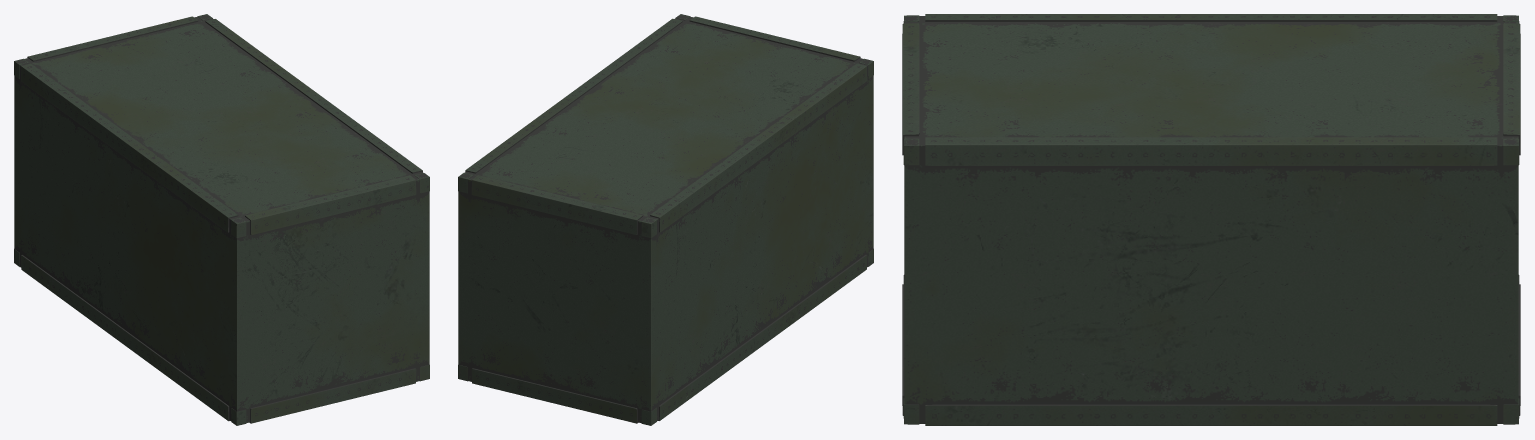
The model's file is metal_box.gltf.
3 views of the same model, side by side, from view 1: azimuth 30°, elevation 25°; view 2: azimuth 150°, elevation 25°; view 3: azimuth 270°, elevation 25° (orthographic). The views are drawn at different scales.
Parts seen in each view (by area): view 1: metal_box; view 2: metal_box; view 3: metal_box.
Part boxes in pixels (box(x1,y1,x2,y2)): metal_box: box(14, 14, 429, 425); metal_box: box(458, 14, 873, 425); metal_box: box(902, 14, 1520, 425).
Size of the model in its own units: 1.01 by 1.01 by 2.01.
Materials: 1 (1 with a texture image).
